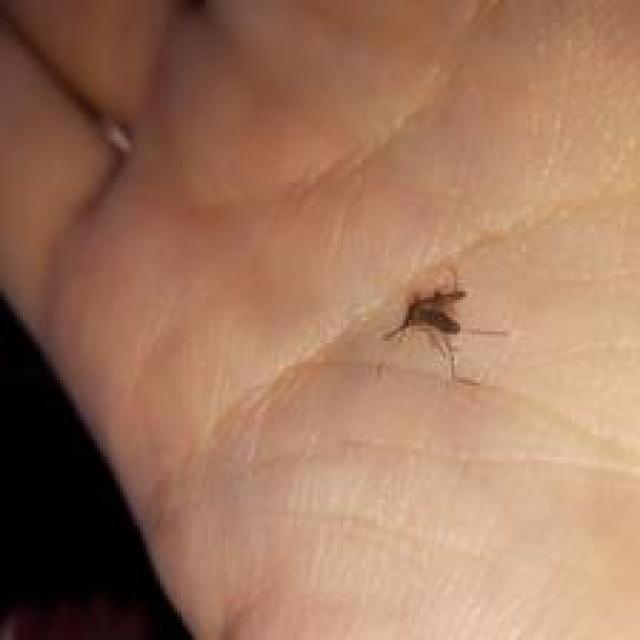Culex: (382, 266, 507, 386)
